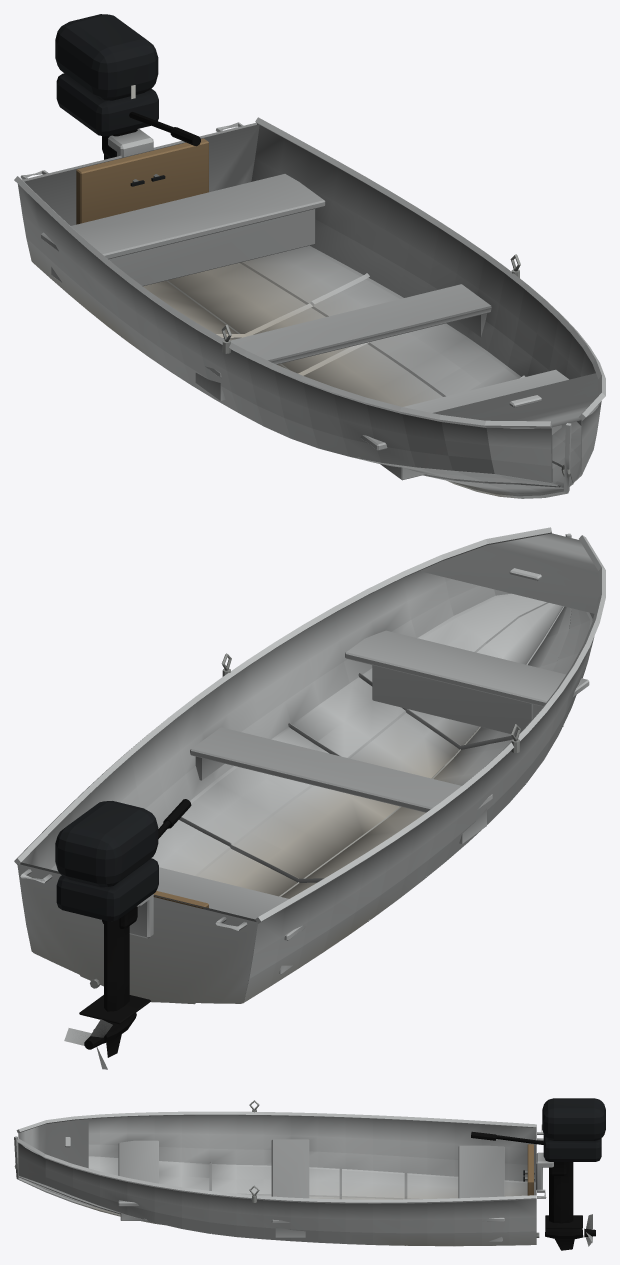
The model's file is boat_aluminium_hull.glb.
3 renders of one model, top to bottom at view 1: azimuth 30°, elevation 25°; view 2: azimuth 150°, elevation 25°; view 3: azimuth 270°, elevation 25°, orthographic. The views are drawn at different scales.
Visible parts, largest first — view 1: boat_aluminium_hull_LOD0, boat_outboard_LOD0; view 2: boat_aluminium_hull_LOD0, boat_outboard_LOD0; view 3: boat_aluminium_hull_LOD0, boat_outboard_LOD0.
Boxes of the visible parts, x1=… form: boat_aluminium_hull_LOD0: x1=14, y1=117, x2=605, y2=498; boat_outboard_LOD0: x1=55, y1=14, x2=200, y2=186; boat_aluminium_hull_LOD0: x1=14, y1=527, x2=605, y2=1004; boat_outboard_LOD0: x1=55, y1=799, x2=191, y2=1069; boat_aluminium_hull_LOD0: x1=14, y1=1100, x2=546, y2=1246; boat_outboard_LOD0: x1=471, y1=1098, x2=605, y2=1250.
Size of what is drawn, in the model's own units: 1.43 by 1.12 by 4.09.
